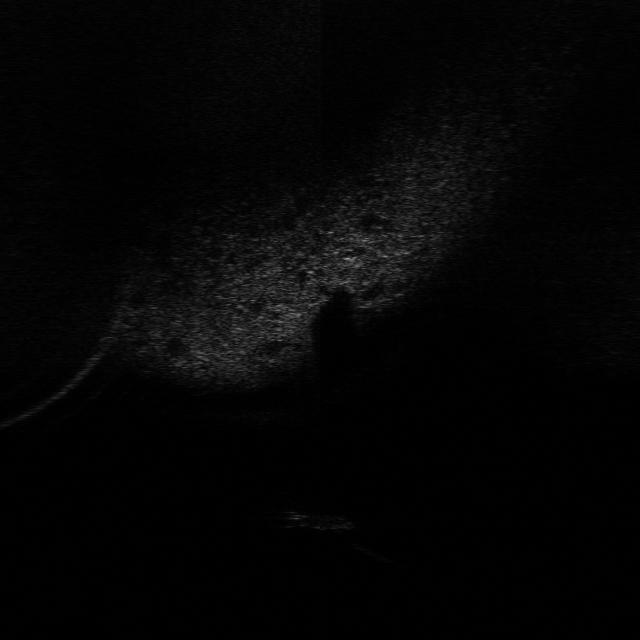cube: (281, 506, 357, 538)
